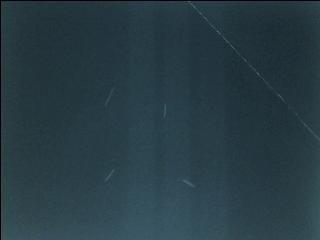crack: (189, 0, 320, 139)
scratch: (99, 83, 120, 111), (156, 99, 174, 123), (100, 164, 118, 187), (178, 175, 200, 192)
